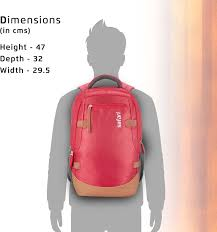backpack: (66, 74, 145, 198)
